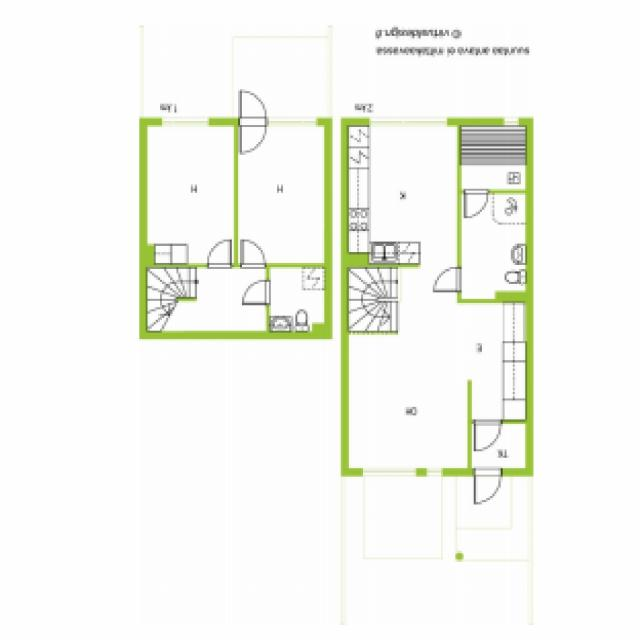door: (474, 468, 502, 504), (475, 419, 502, 452), (241, 118, 266, 152), (241, 93, 266, 126), (241, 239, 265, 268), (207, 239, 231, 268), (464, 190, 488, 219), (242, 280, 270, 304), (434, 268, 461, 292)
